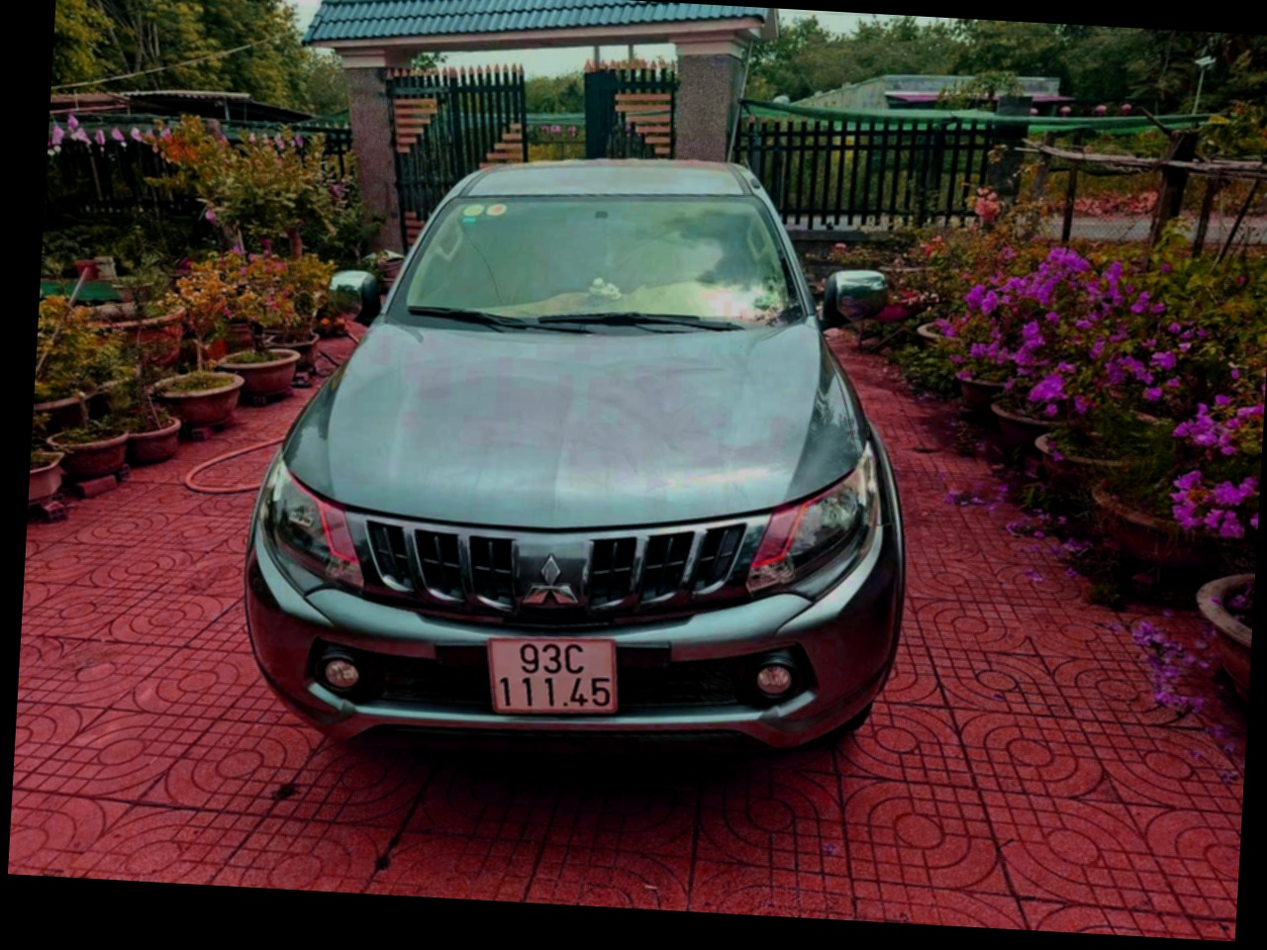Bien-so: (458, 675, 604, 778)
